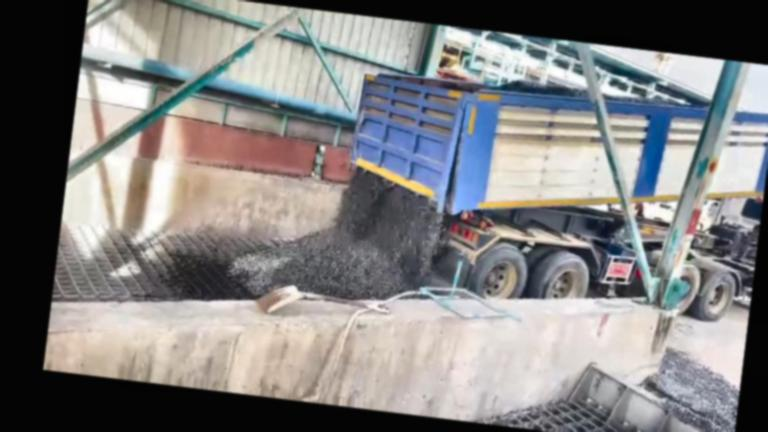gravel: (229, 170, 444, 297), (653, 349, 739, 432), (491, 80, 587, 98)
